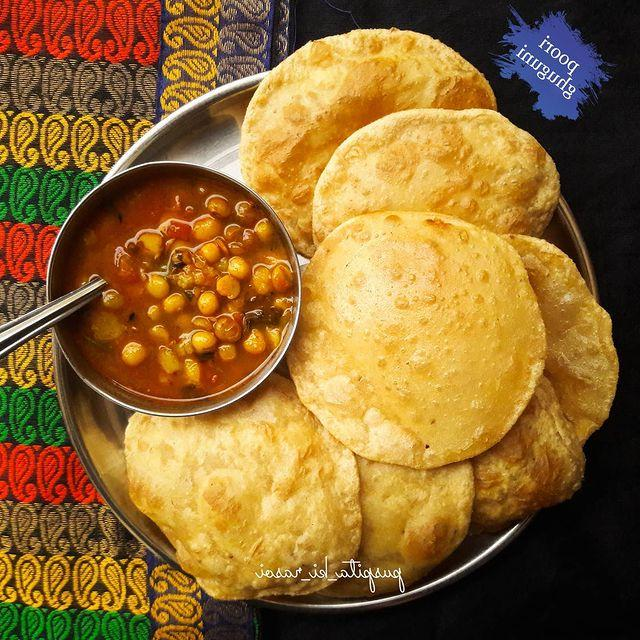Chole: (58, 160, 306, 413)
